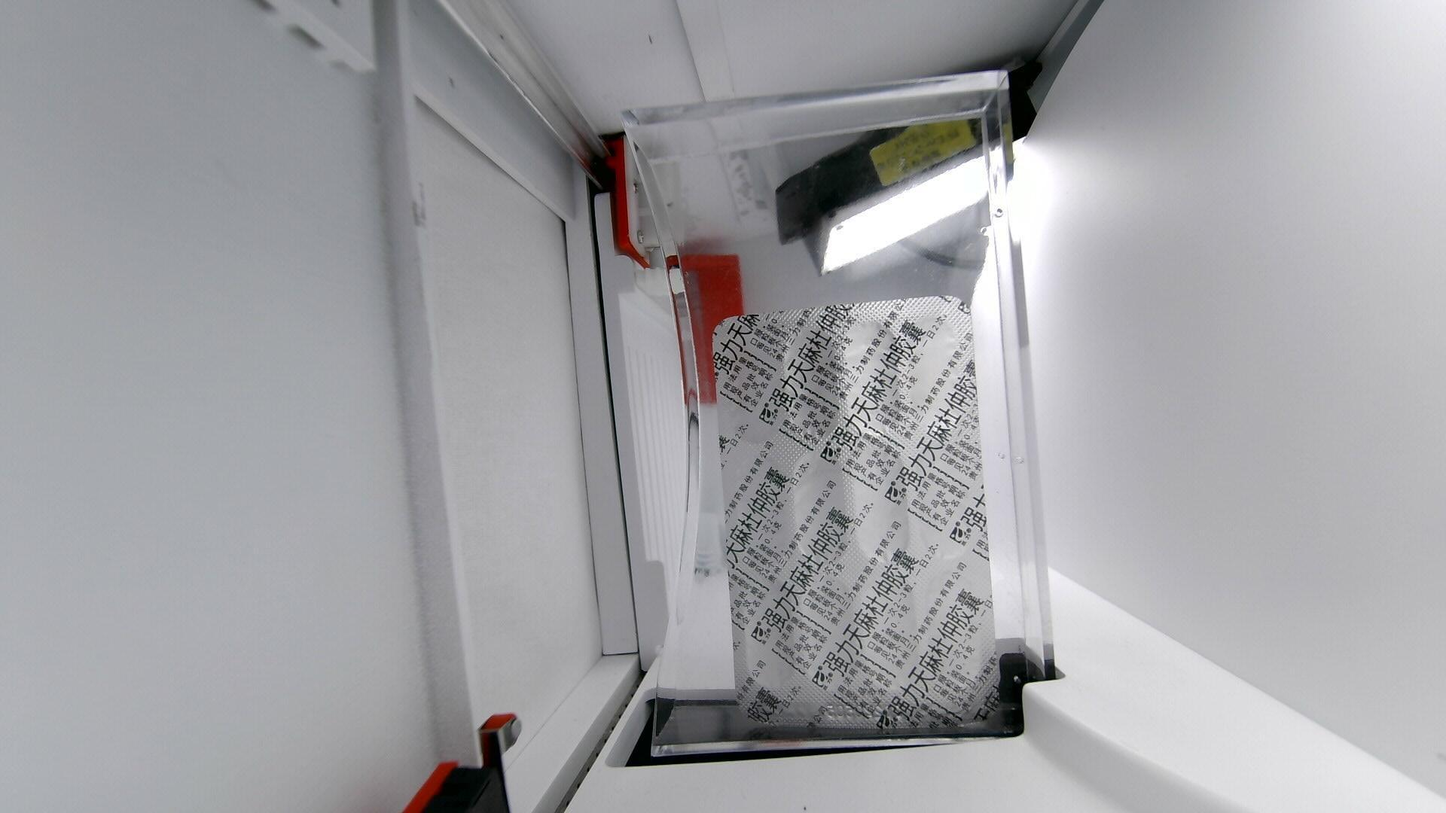Pill Back: (925, 577, 990, 685), (723, 323, 784, 437), (923, 439, 981, 553), (844, 321, 904, 430), (730, 449, 786, 563), (914, 317, 972, 426), (857, 444, 909, 562), (802, 578, 857, 685), (864, 580, 917, 681), (800, 446, 847, 559), (789, 327, 837, 434), (740, 585, 791, 684)
